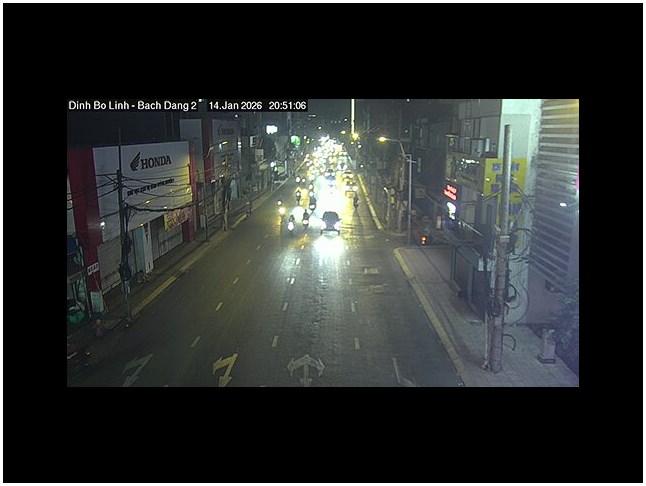car: (286, 206, 310, 233)
